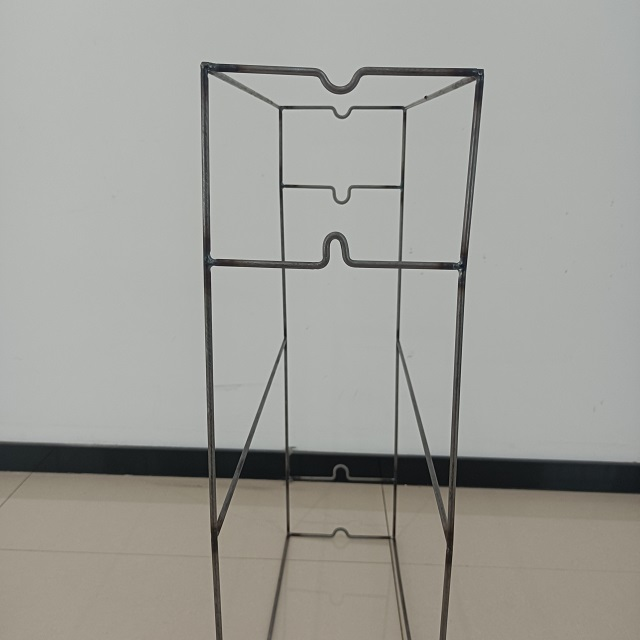curvedhole: (313, 229, 363, 276), (314, 62, 370, 97), (322, 176, 362, 210), (325, 99, 365, 125), (322, 460, 357, 486), (325, 523, 357, 547)
